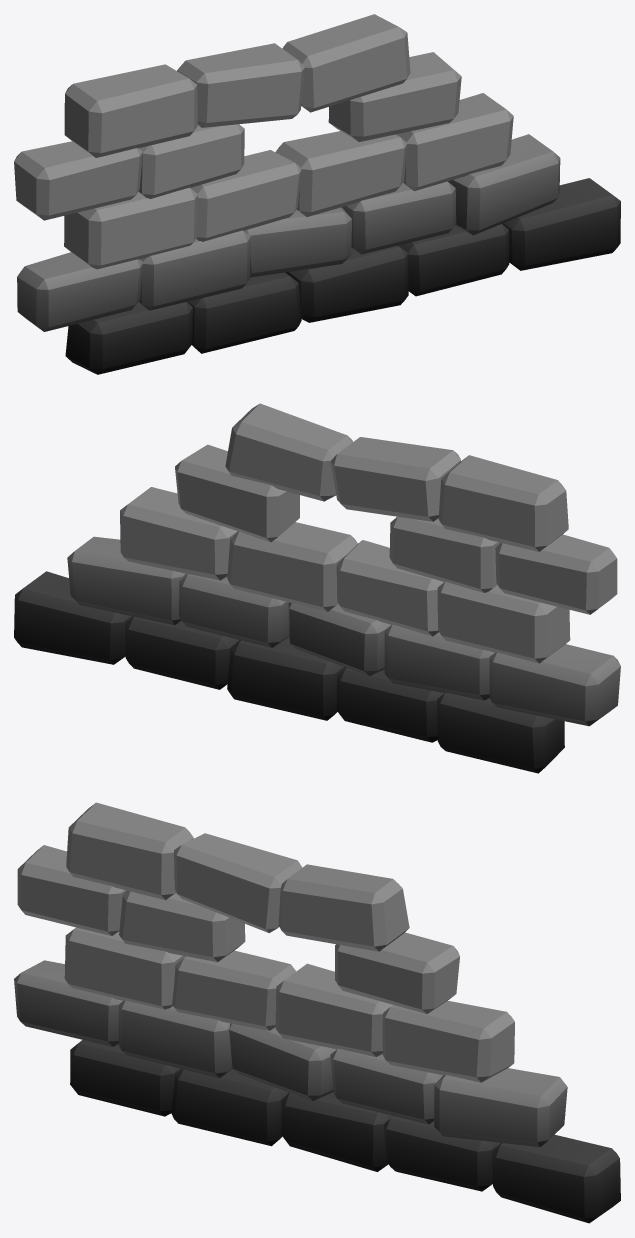
The model's file is BrickWall2x1_01_End_Broken_R.fbx.
3 renders of one model, top to bottom at view 1: azimuth 30°, elevation 25°; view 2: azimuth 150°, elevation 25°; view 3: azimuth 330°, elevation 25°, orthographic.
Parts seen in each view (by area): view 1: BrickWall2x1_01_End_Broken_R; view 2: BrickWall2x1_01_End_Broken_R; view 3: BrickWall2x1_01_End_Broken_R.
Part boxes in pixels (x1,y1,x2,y2): BrickWall2x1_01_End_Broken_R: [14, 14, 620, 374]; BrickWall2x1_01_End_Broken_R: [14, 403, 620, 773]; BrickWall2x1_01_End_Broken_R: [14, 802, 620, 1223].
Bounding box in the file's own units: 221 × 101 × 26.58.
